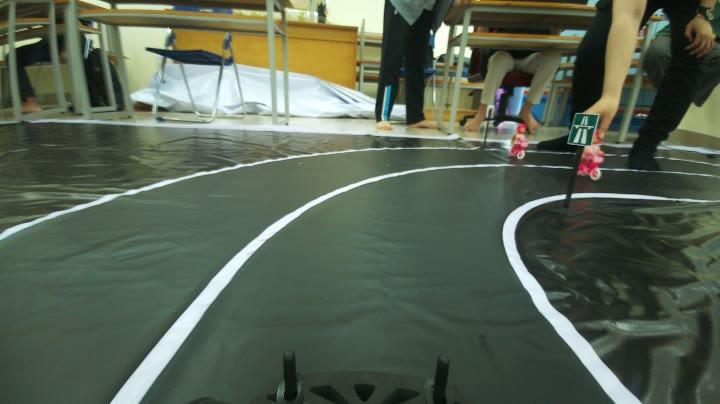highway_entry: (568, 107, 600, 151)
